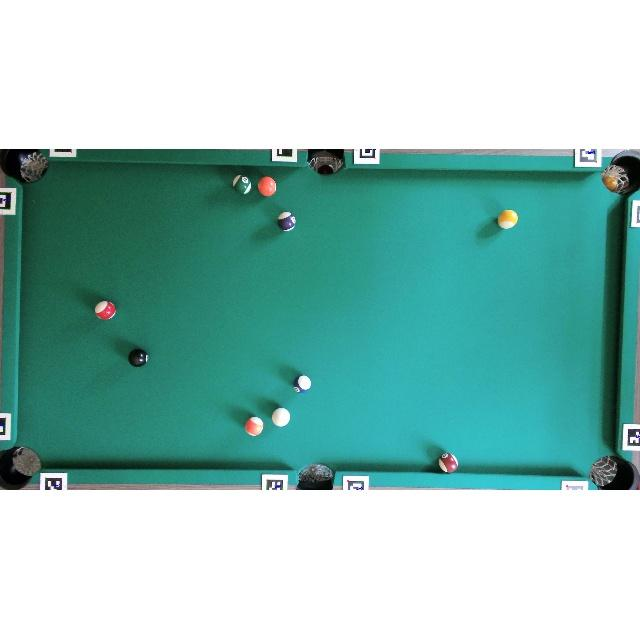cue ball: (272, 407, 290, 427)
other: (438, 452, 458, 474), (257, 176, 277, 197), (95, 300, 116, 320), (128, 348, 149, 368), (497, 209, 518, 229), (232, 174, 252, 195), (244, 417, 264, 436), (293, 374, 311, 394)
